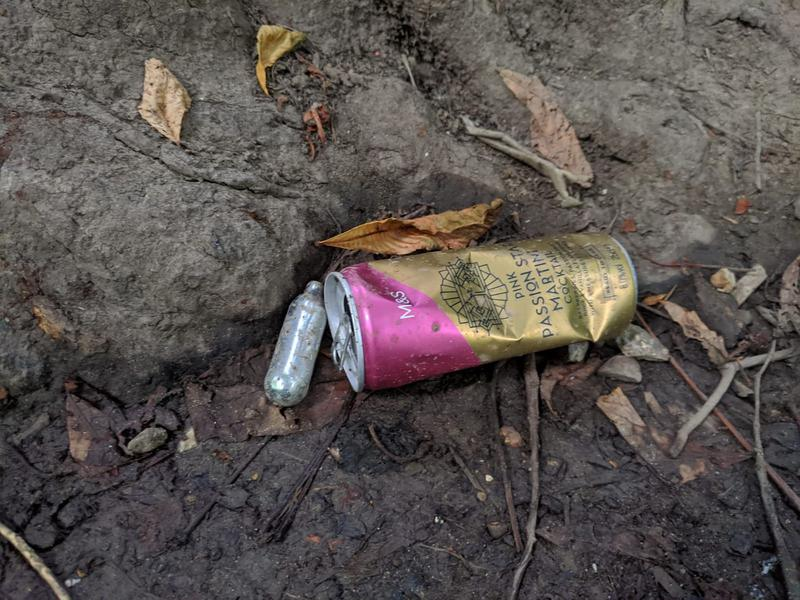bottle: (260, 277, 327, 411)
can: (315, 227, 641, 396)
leaf: (492, 64, 600, 193), (313, 196, 515, 256), (131, 51, 206, 152), (247, 21, 306, 94)
